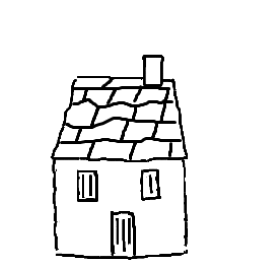bottom_placed_house: (1, 1, 260, 260)
chimney: (133, 42, 172, 89)
closed_window: (72, 166, 105, 209), (136, 162, 162, 207)
door: (102, 205, 148, 260)
roof: (42, 70, 192, 167)
wall: (46, 145, 194, 260)
